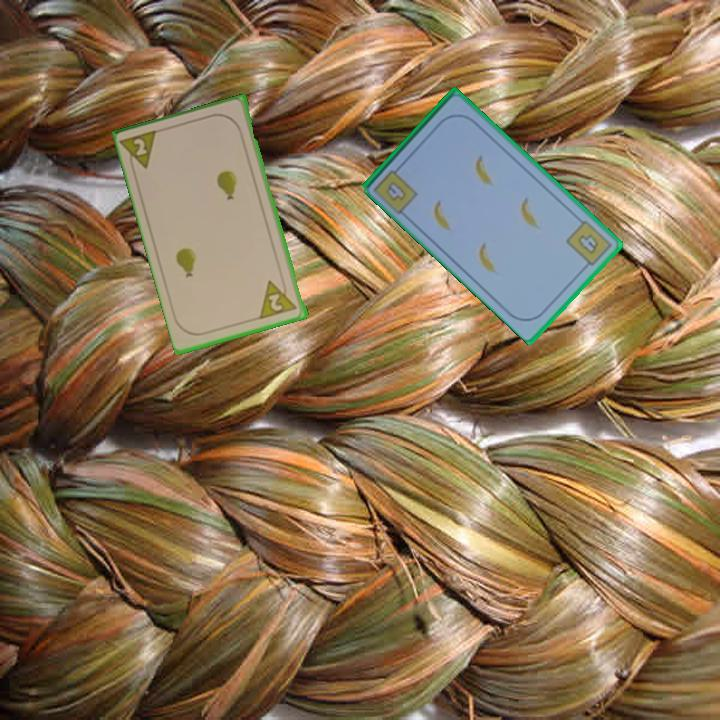2p: (119, 126, 162, 176), (257, 274, 300, 322)
4b: (563, 217, 615, 272), (383, 177, 410, 204)
